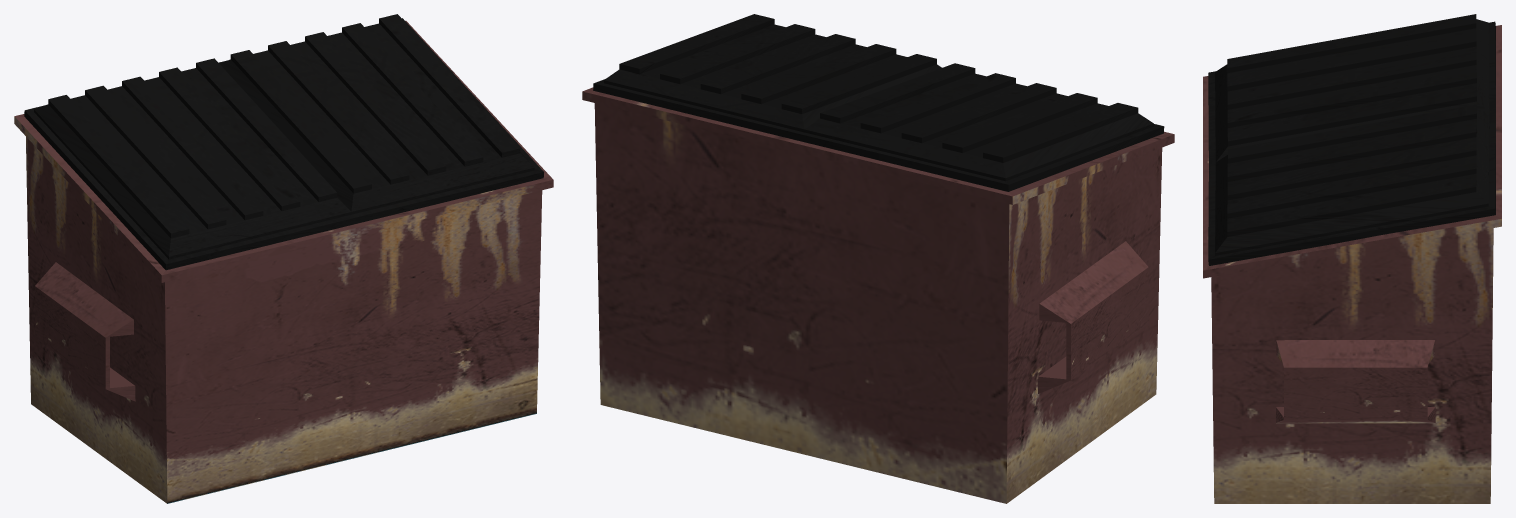
File: GarbageBin_Red.fbx
3 renders of one model, left to right at view 1: azimuth 30°, elevation 25°; view 2: azimuth 150°, elevation 25°; view 3: azimuth 270°, elevation 25°, orthographic. The views are drawn at different scales.
Visible parts, largest first — view 1: GarbageBin_Red; view 2: GarbageBin_Red; view 3: GarbageBin_Red.
Part boxes in pixels (x1,y1,x2,y2): GarbageBin_Red: (14, 14, 553, 503); GarbageBin_Red: (582, 14, 1174, 503); GarbageBin_Red: (1203, 14, 1501, 503).
Size of the model in its own units: 7.78 by 5.39 by 4.68.
